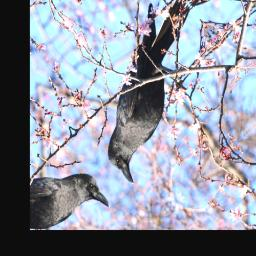Crow: (56, 0, 242, 189)
